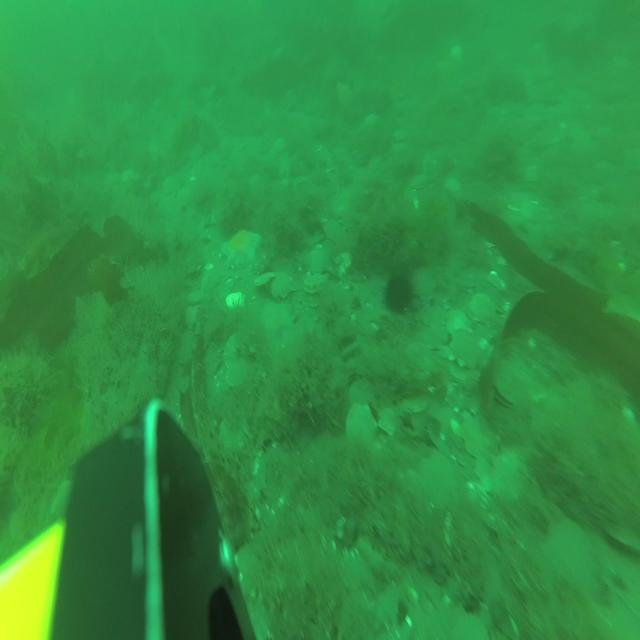echinus: (380, 270, 418, 318)
scallop: (458, 409, 500, 462), (491, 363, 529, 410), (346, 401, 378, 454), (216, 409, 252, 455), (449, 325, 482, 372), (346, 376, 375, 414), (223, 330, 251, 367), (470, 292, 496, 327), (397, 390, 431, 416), (446, 308, 474, 339), (378, 405, 402, 439), (224, 360, 252, 387), (306, 245, 330, 276), (270, 270, 294, 300), (322, 218, 348, 245), (422, 302, 450, 326), (303, 270, 329, 294), (159, 173, 182, 197), (225, 290, 248, 311), (253, 269, 276, 290), (181, 304, 198, 330), (410, 171, 428, 194), (186, 289, 206, 306)
starfish: (220, 228, 262, 270), (263, 298, 297, 337)
